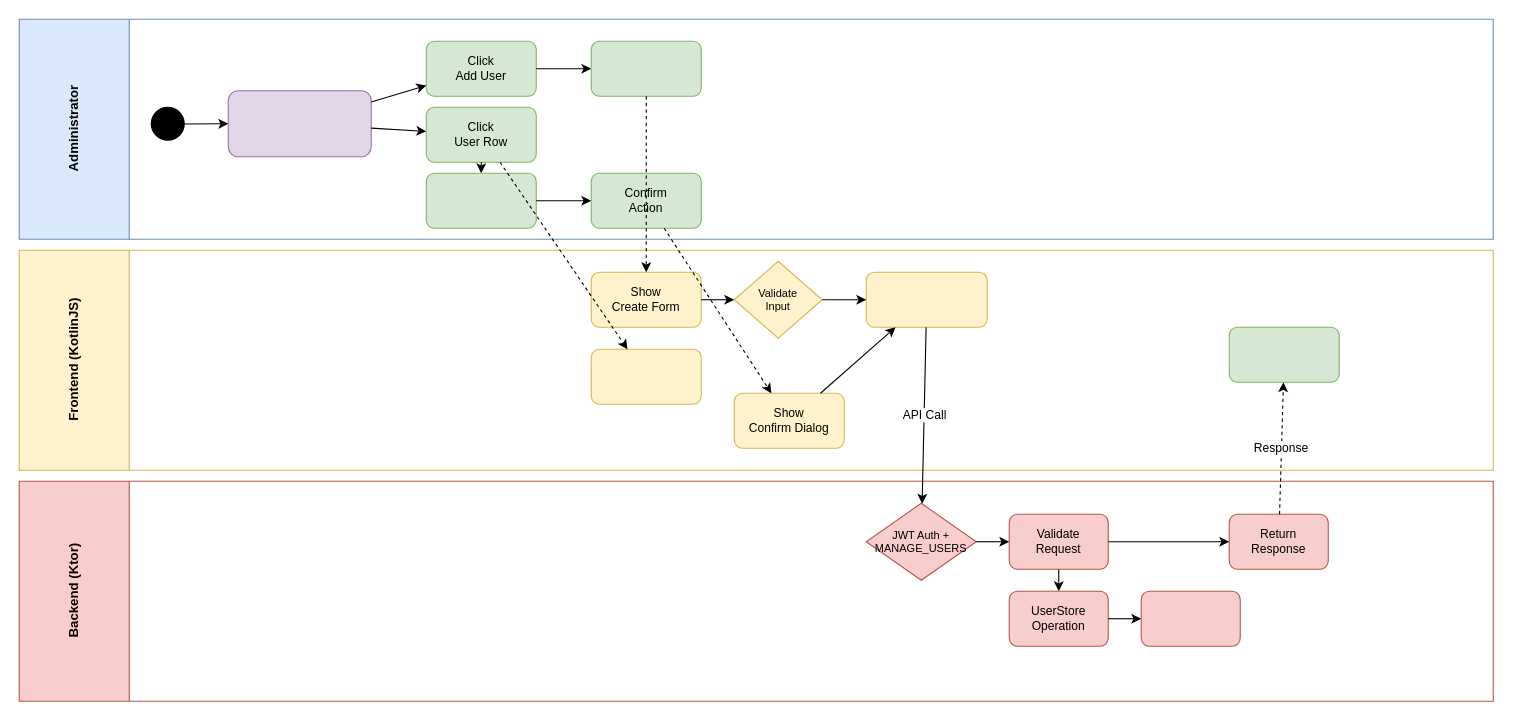
The diagram is 1513 pixels wide and 721 high, and some of its shapes have lost their labels. Here are the shapes that lost their labels. From the top down, the centre of each, then its label:
At (645,68): "Fill Form & Submit".
At (299,123): "Navigate to User Management".
At (480,200): "Click Edit / Disable / Delete".
At (926,299): "Show Blocking Overlay".
At (1283,354): "Refresh User List".
At (645,376): "Show Detail Panel".
At (1190,618): "Audit Log Append".
